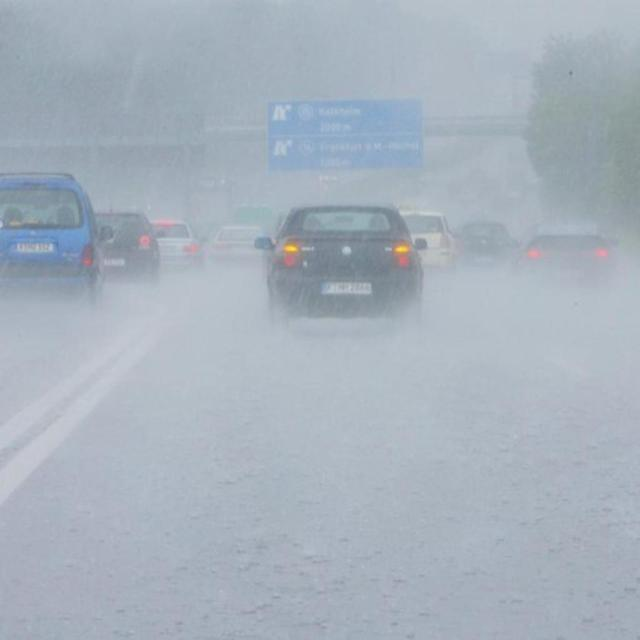car: (266, 202, 421, 328), (1, 175, 103, 298), (518, 227, 618, 297), (94, 209, 160, 281), (404, 211, 456, 270), (454, 218, 514, 266), (148, 218, 204, 268), (206, 224, 273, 264)
